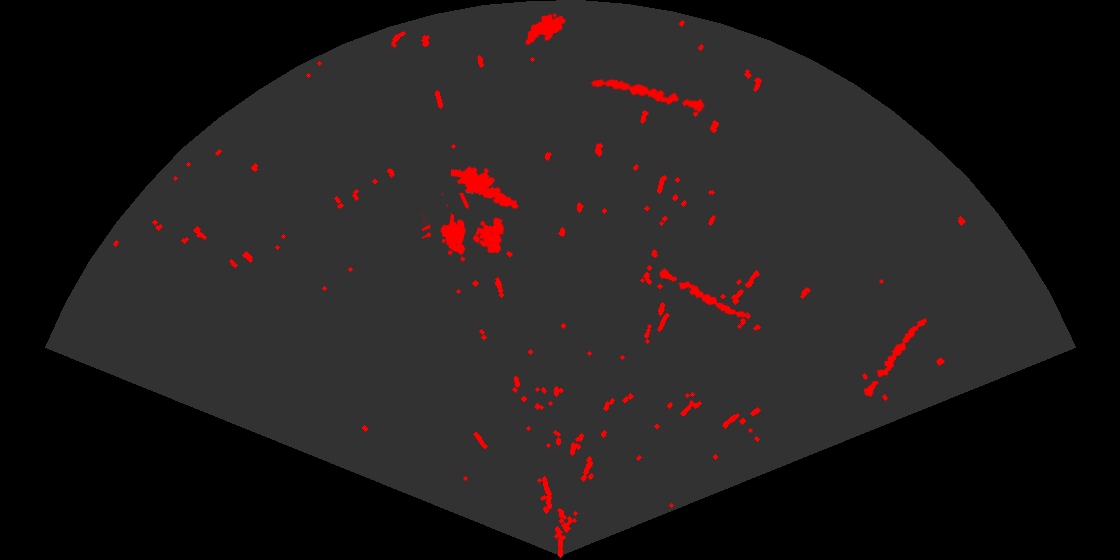AUV: (524, 13, 567, 46)
cage: (422, 193, 506, 263)
chain: (862, 317, 929, 398), (658, 267, 748, 319), (589, 77, 707, 114)
frogman: (451, 165, 520, 210)
